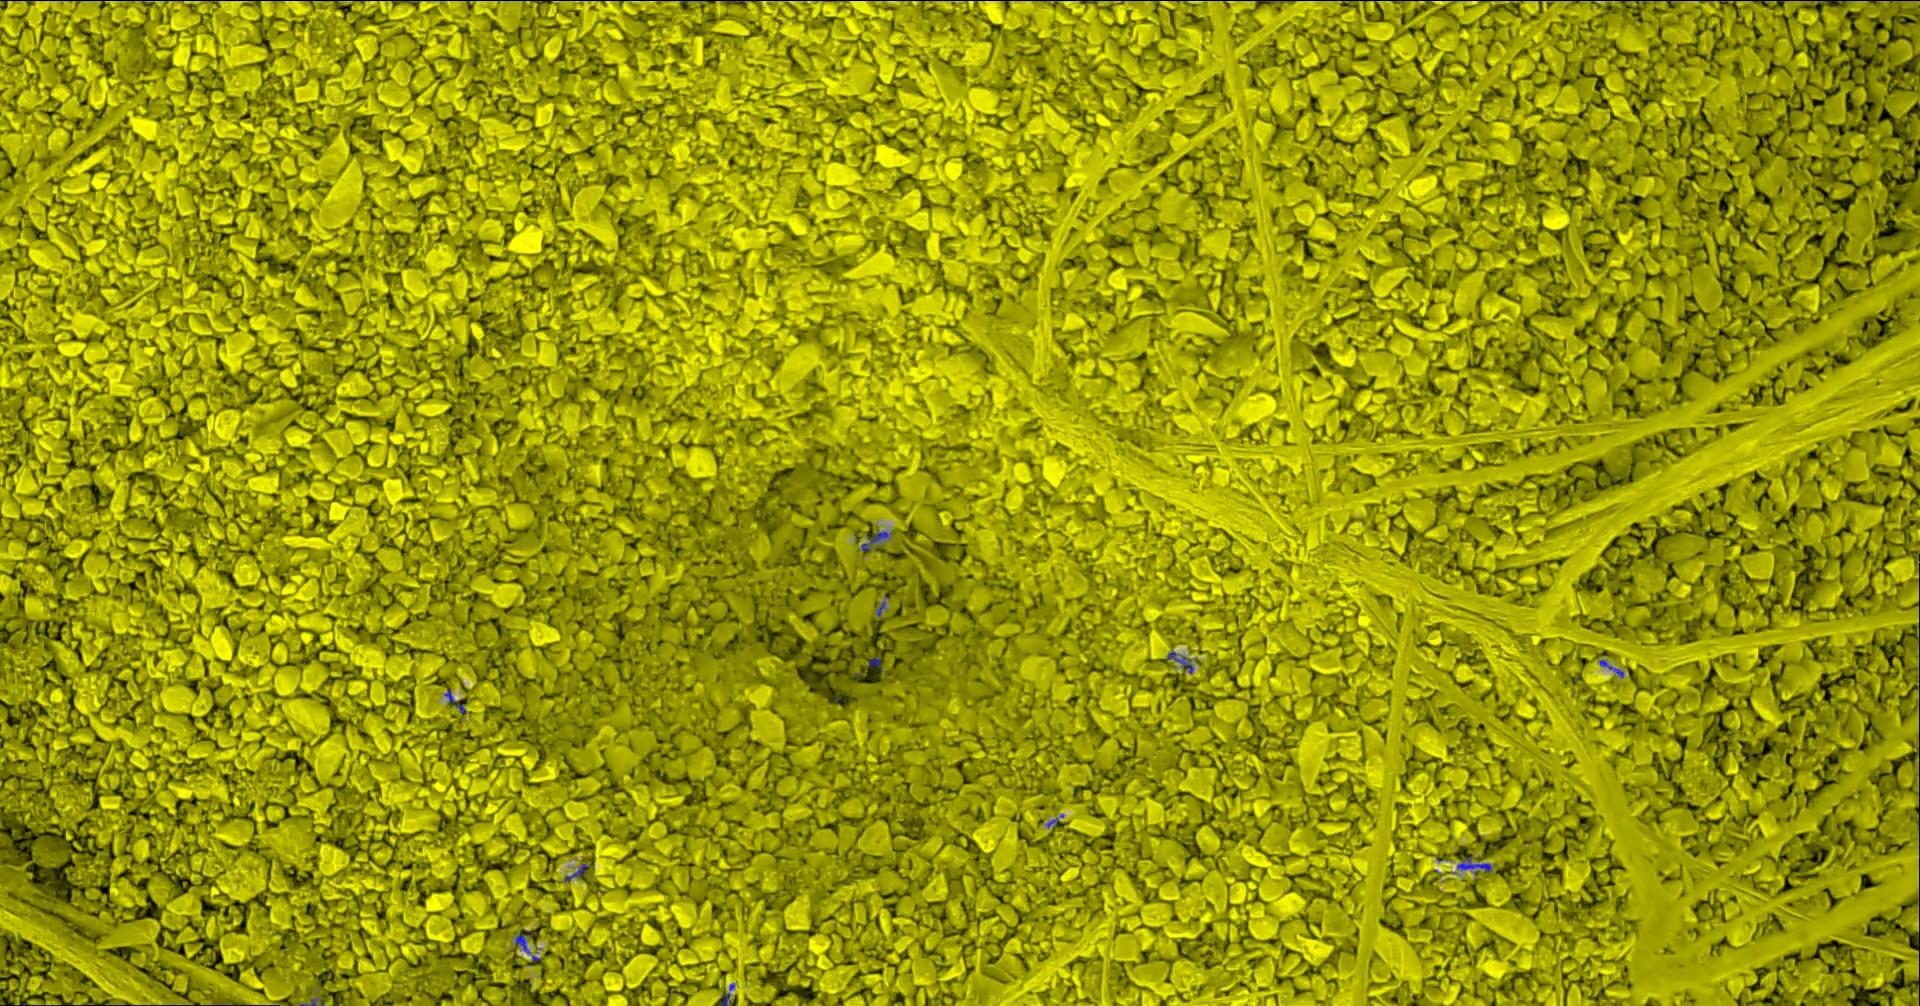ant: (1457, 856, 1491, 875), (861, 531, 891, 551), (1166, 650, 1192, 673), (563, 862, 589, 882), (444, 688, 465, 713), (1599, 659, 1623, 677), (514, 929, 531, 953), (867, 655, 883, 671), (298, 997, 323, 1005)
